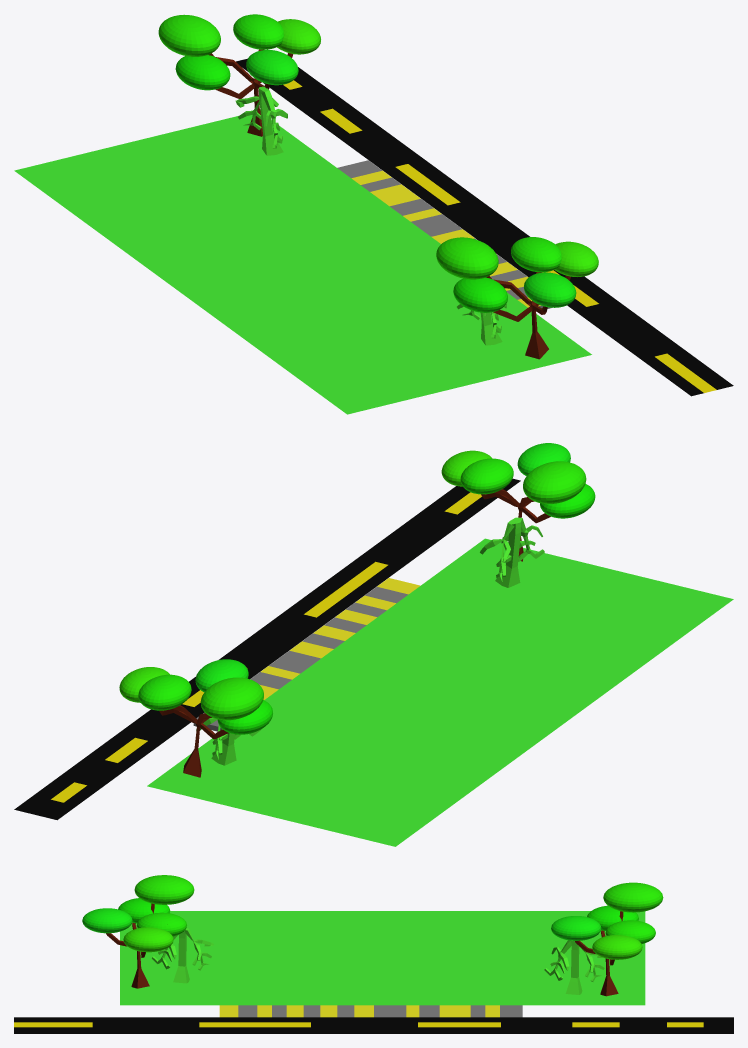
Rendered from practica final- Jorge Tejada.fbx.
3 renders of one model, top to bottom at view 1: azimuth 30°, elevation 25°; view 2: azimuth 150°, elevation 25°; view 3: azimuth 270°, elevation 25°, orthographic. The views are drawn at different scales.
Parts seen in each view (by area): view 1: Plano, Plano.002, Plano.001, Esfera.001, Esfera.008, Cubo.003, Esfera.009, Esfera, Esfera.003, Esfera.006, Esfera.002, Esfera.007 (+5 smaller); view 2: Plano, Plano.002, Plano.001, Esfera.008, Esfera.001, Cubo.002, Esfera.002, Esfera.007, Cubo.001, Esfera.006, Esfera.003, Esfera (+5 smaller); view 3: Plano, Plano.002, Plano.001, Esfera.008, Esfera.001, Cubo.003, Cubo.002, Esfera.003, Esfera.004, Esfera.006, Esfera.005, Esfera.007 (+5 smaller).
Part boxes in pixels (x1,y1,x2,y2): Plano: [14, 115, 591, 414]; Plano.002: [236, 58, 733, 396]; Plano.001: [337, 160, 552, 311]; Esfera.001: [436, 237, 498, 279]; Esfera.008: [158, 14, 220, 56]; Cubo.003: [235, 86, 287, 155]; Esfera.009: [175, 55, 230, 90]; Esfera: [453, 277, 507, 312]; Esfera.003: [524, 272, 576, 307]; Esfera.006: [246, 49, 298, 85]; Esfera.002: [511, 237, 561, 272]; Esfera.007: [233, 14, 283, 49]; Plano: [147, 538, 733, 846]; Plano.002: [14, 478, 520, 820]; Plano.001: [193, 578, 420, 731]; Esfera.008: [200, 677, 263, 720]; Esfera.001: [523, 461, 586, 503]; Cubo.002: [480, 517, 544, 587]; Esfera.002: [460, 458, 513, 494]; Esfera.007: [138, 674, 191, 710]; Cubo.001: [159, 705, 228, 777]; Esfera.006: [195, 659, 248, 692]; Esfera.003: [517, 443, 570, 475]; Esfera: [540, 483, 595, 518]; Plano: [120, 911, 645, 1005]; Plano.002: [14, 1017, 733, 1033]; Plano.001: [219, 1005, 522, 1017]; Esfera.008: [603, 882, 663, 912]; Esfera.001: [134, 875, 194, 904]; Cubo.003: [544, 940, 604, 994]; Cubo.002: [152, 928, 214, 983]; Esfera.003: [82, 908, 132, 933]; Esfera.004: [123, 927, 173, 952]; Esfera.006: [551, 916, 601, 940]; Esfera.005: [592, 935, 642, 959]; Esfera.007: [605, 920, 655, 943].
Size of the model in its own units: 13745 by 4892 by 34050.
